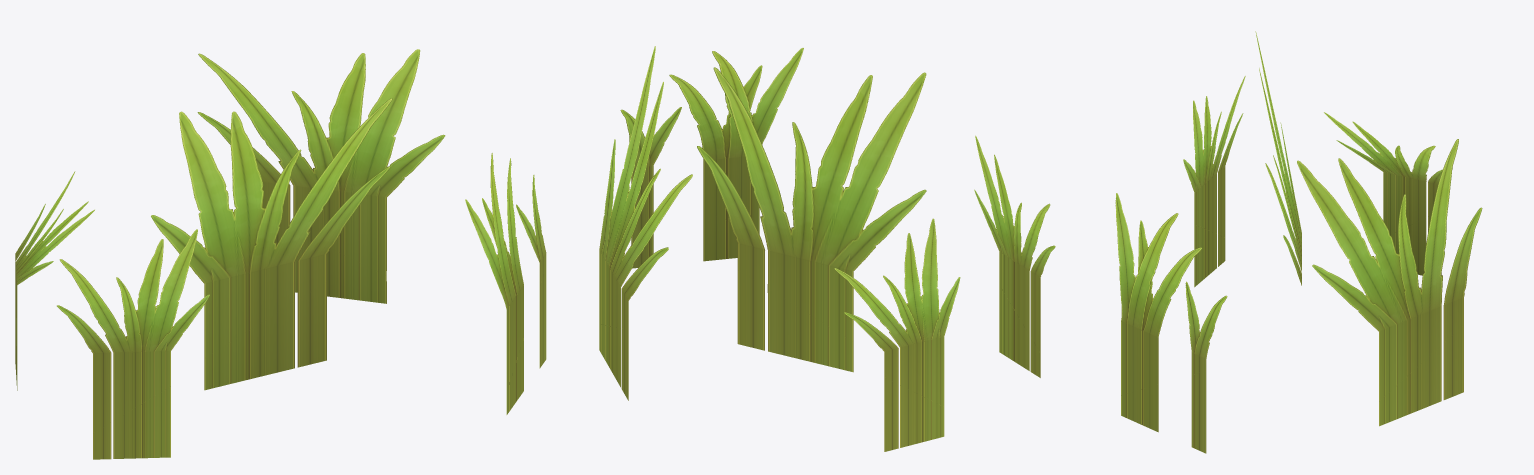
The model's file is Grass04.fbx.
The picture shows the model from 3 angles, left to right: view 1: azimuth 30°, elevation 25°; view 2: azimuth 150°, elevation 25°; view 3: azimuth 270°, elevation 25°; orthographic projection. The views are drawn at different scales.
Parts seen in each view (by area): view 1: Stylized_Grass_alpha_4_LOD0; view 2: Stylized_Grass_alpha_4_LOD0; view 3: Stylized_Grass_alpha_4_LOD0.
Boxes of the visible parts, box(x1,y1,x2,y2) form: Stylized_Grass_alpha_4_LOD0: box(15, 49, 546, 459); Stylized_Grass_alpha_4_LOD0: box(599, 46, 1055, 451); Stylized_Grass_alpha_4_LOD0: box(1115, 31, 1482, 453).
Size of what is drawn, in the model's own units: 49.56 by 29.86 by 41.44.
1 material, 1 textured.
